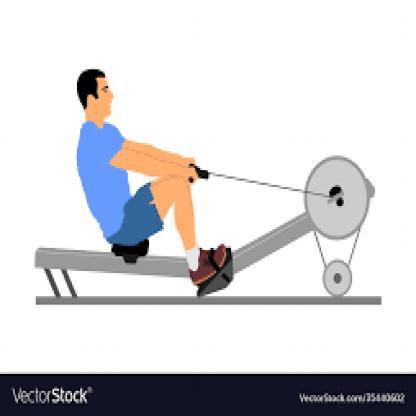Seated Cable Rows: (29, 46, 397, 333)
